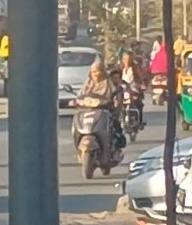BikeWithRider: (61, 56, 128, 181), (113, 46, 148, 143)
NoHelmet: (86, 59, 108, 83), (108, 68, 124, 87), (121, 51, 134, 68)
